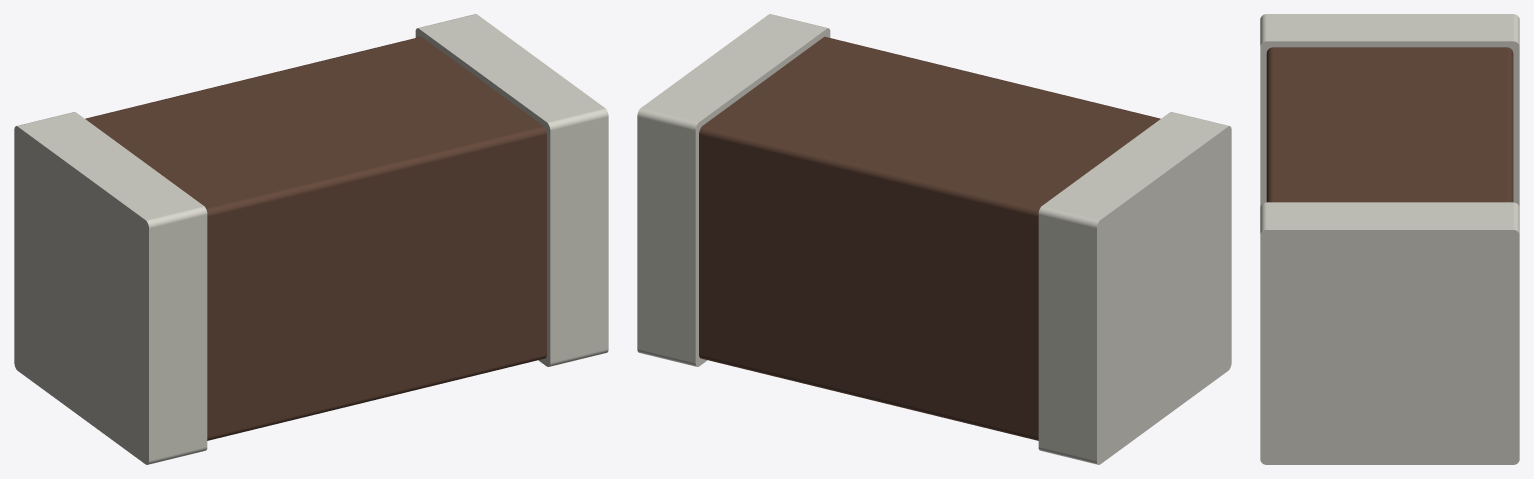
3 views of the same model, side by side, from view 1: azimuth 30°, elevation 25°; view 2: azimuth 150°, elevation 25°; view 3: azimuth 270°, elevation 25° (orthographic). The views are drawn at different scales.
Visible parts, largest first — view 1: =>[0:1:1:3]; view 2: =>[0:1:1:3]; view 3: =>[0:1:1:3].
Part boxes in pixels (box(x1,y1,x2,y2)): =>[0:1:1:3]: box(14, 14, 608, 464); =>[0:1:1:3]: box(637, 14, 1231, 464); =>[0:1:1:3]: box(1260, 14, 1519, 464).
Bounding box in the file's own units: 0.0063 × 0.0032 × 0.0032.
